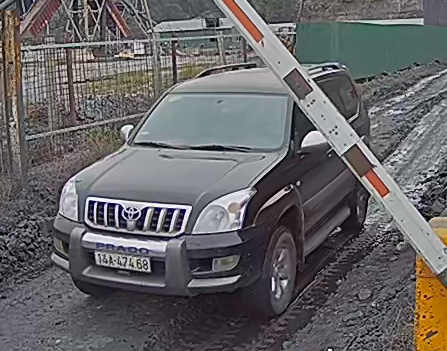vehicle plate: (92, 247, 153, 273)
